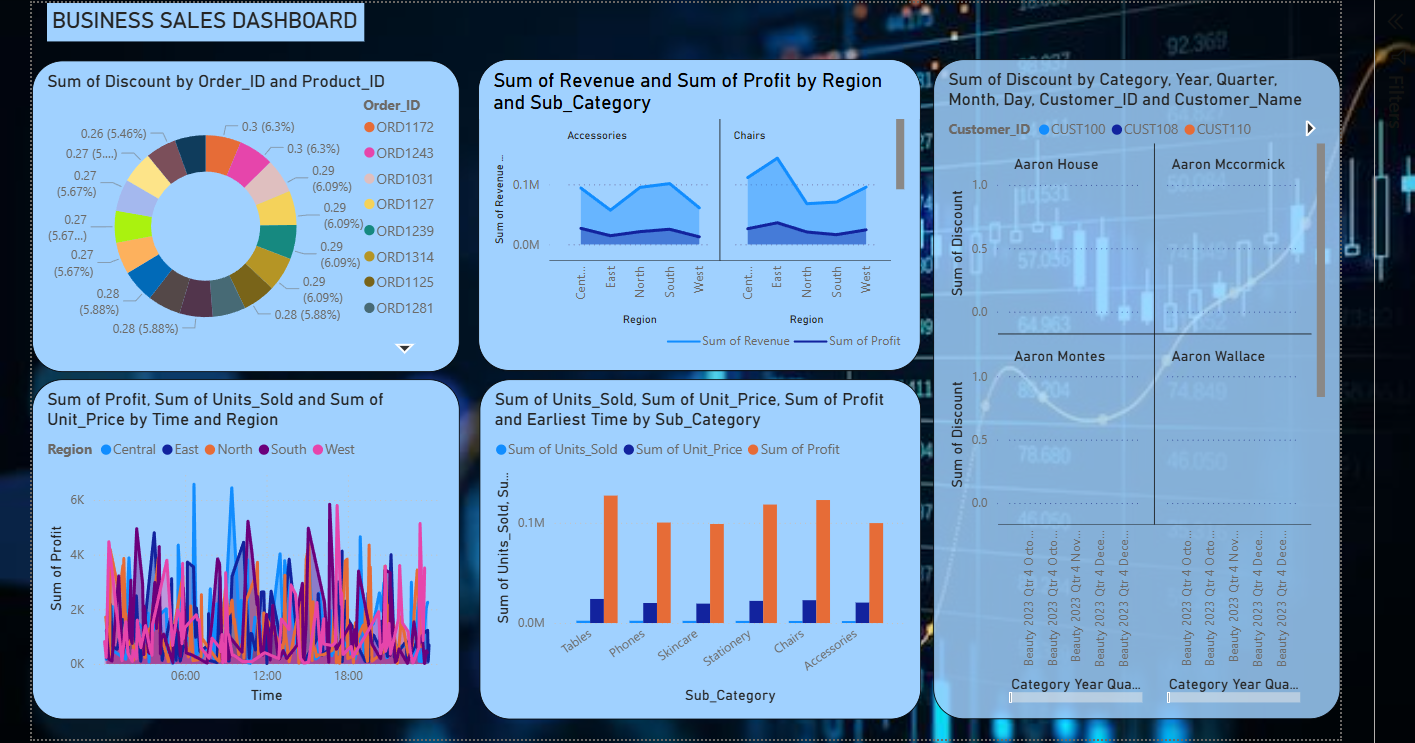

Layout of this report page (visuals, bound fields, positions):
{"tool":"powerbi","page":{"name":"Page 1","canvas":[1280,720],"ordinal":0},"visuals":[{"type":"donutChart","fields":{"Y":["business_sales_dataset.Discount"],"Category":["business_sales_dataset.Order_ID","business_sales_dataset.Product_Name"],"Series":["business_sales_dataset.Product_ID"]},"box":[0,56.3,418.2,304.5],"z":0},{"type":"lineStackedColumnComboChart","fields":{"Category":["business_sales_dataset.Category","business_sales_dataset.Date.Variation.Date Hierarchy.Year","business_sales_dataset.Date.Variation.Date Hierarchy.Quarter","business_sales_dataset.Date.Variation.Date Hierarchy.Month","business_sales_dataset.Date.Variation.Date Hierarchy.Day"],"Series":["business_sales_dataset.Customer_ID"],"Rows":["business_sales_dataset.Customer_Name"],"Y":["business_sales_dataset.Discount"]},"box":[881.7,55,398.6,645.7],"z":1000},{"type":"areaChart","fields":{"Y":["business_sales_dataset.Revenue","business_sales_dataset.Profit"],"Category":["business_sales_dataset.Region"],"Rows":["business_sales_dataset.Sub_Category"]},"box":[436.6,55,432.9,304.5],"z":2000},{"type":"stackedAreaChart","fields":{"Category":["business_sales_dataset.Time"],"Y":["business_sales_dataset.Profit"],"Series":["business_sales_dataset.Region"]},"box":[0,368.1,418.2,332.6],"z":3000},{"type":"lineClusteredColumnComboChart","fields":{"Y":["business_sales_dataset.Units_Sold","business_sales_dataset.Unit_Price","business_sales_dataset.Profit"],"Category":["business_sales_dataset.Sub_Category"]},"box":[436.6,368.1,432.9,336.3],"z":4000},{"type":"textbox","box":[8.6,0,310.6,37.9],"z":5000}]}

Visuals, with their boxes in screenshot pixels (x1, y1, x2, y2):
donutChart - business_sales_dataset.Discount x business_sales_dataset.Order_ID: (x1=29, y1=57, x2=456, y2=368)
lineStackedColumnComboChart - business_sales_dataset.Category x business_sales_dataset.Date.Variation.Date Hierarchy.Year: (x1=928, y1=56, x2=1335, y2=714)
areaChart - business_sales_dataset.Revenue x business_sales_dataset.Profit: (x1=475, y1=56, x2=916, y2=367)
stackedAreaChart - business_sales_dataset.Time x business_sales_dataset.Profit: (x1=29, y1=375, x2=456, y2=714)
lineClusteredColumnComboChart - business_sales_dataset.Units_Sold x business_sales_dataset.Unit_Price: (x1=475, y1=375, x2=916, y2=718)
textbox: (x1=38, y1=0, x2=355, y2=39)
